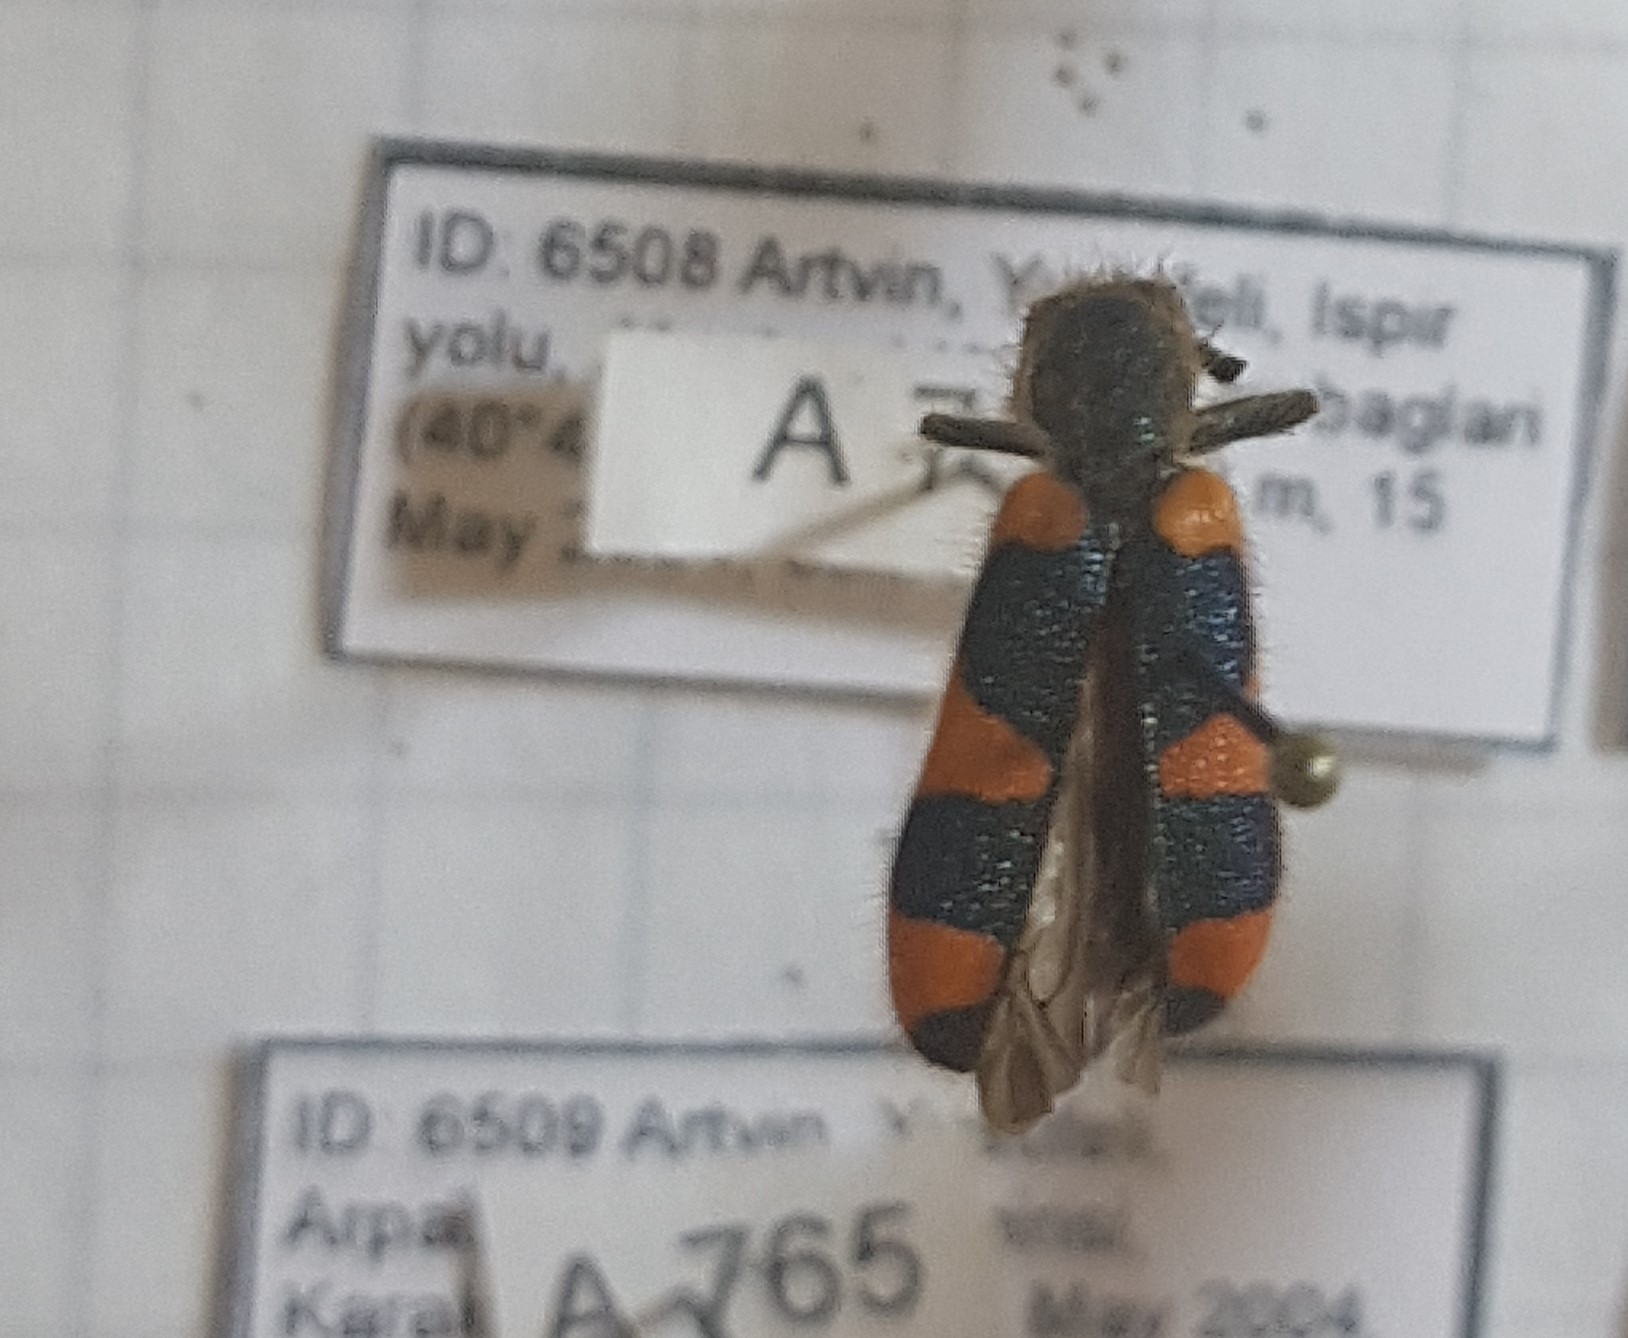trichodes_holtzi: (882, 261, 1312, 1123)
